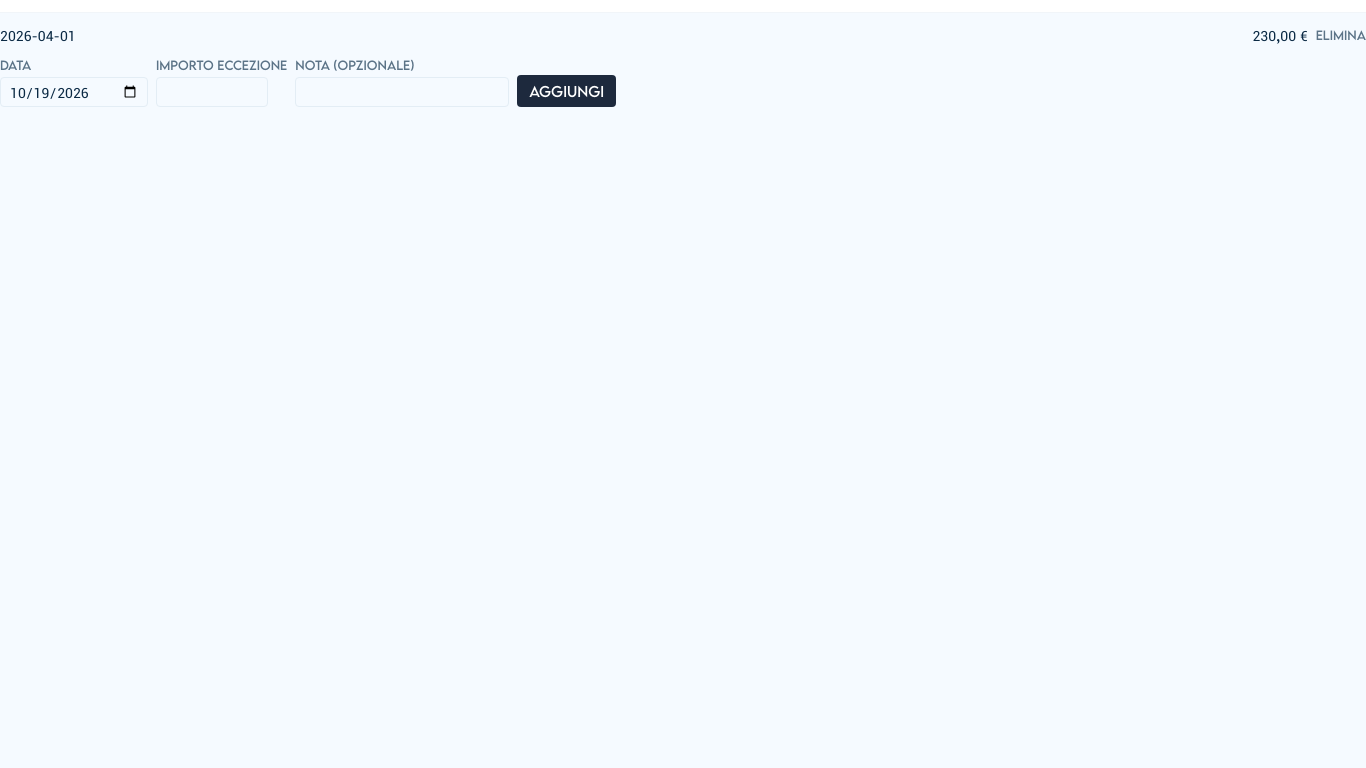
Test case: cancellazione › confermando la elimina e ricarica
Click the button "Elimina": (1341, 35) [1316, 27, 1365, 43]
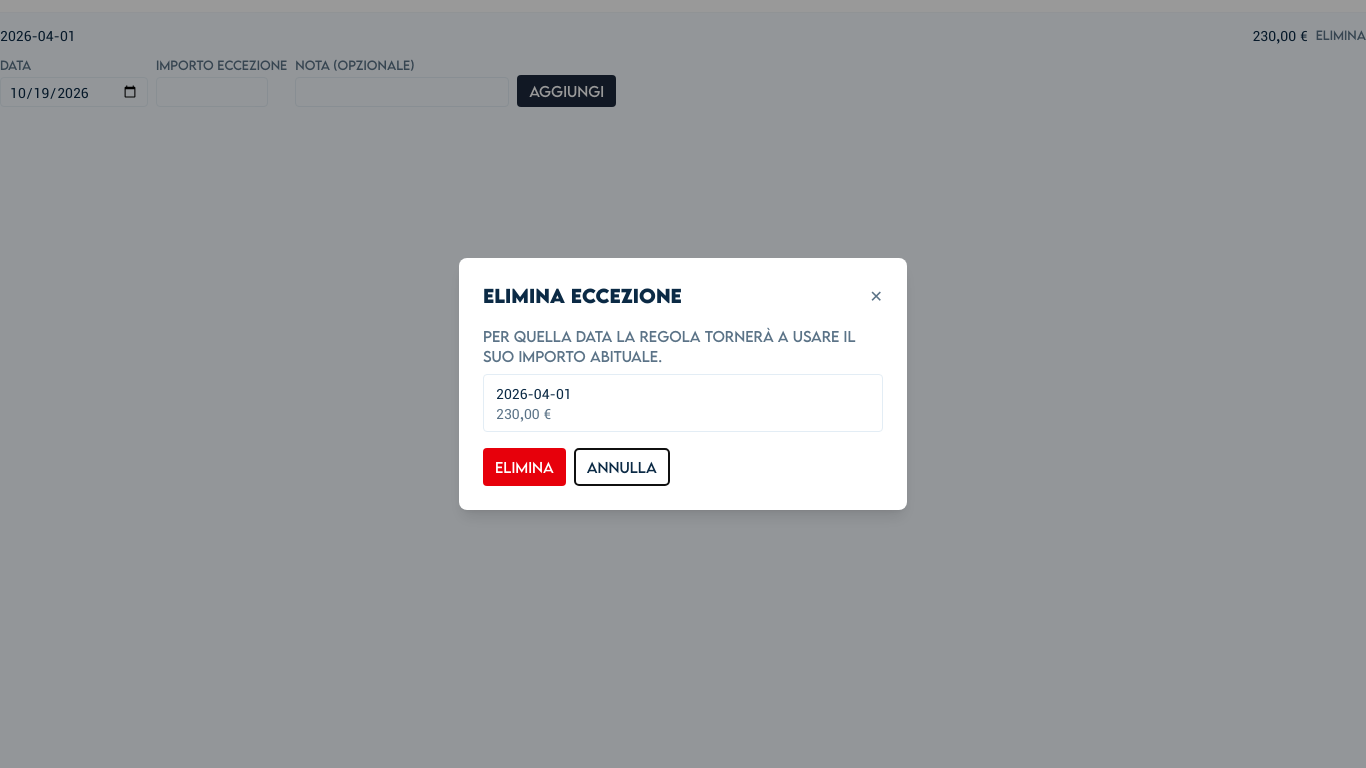
Click the button "Elimina": (524, 467) [483, 448, 566, 486]
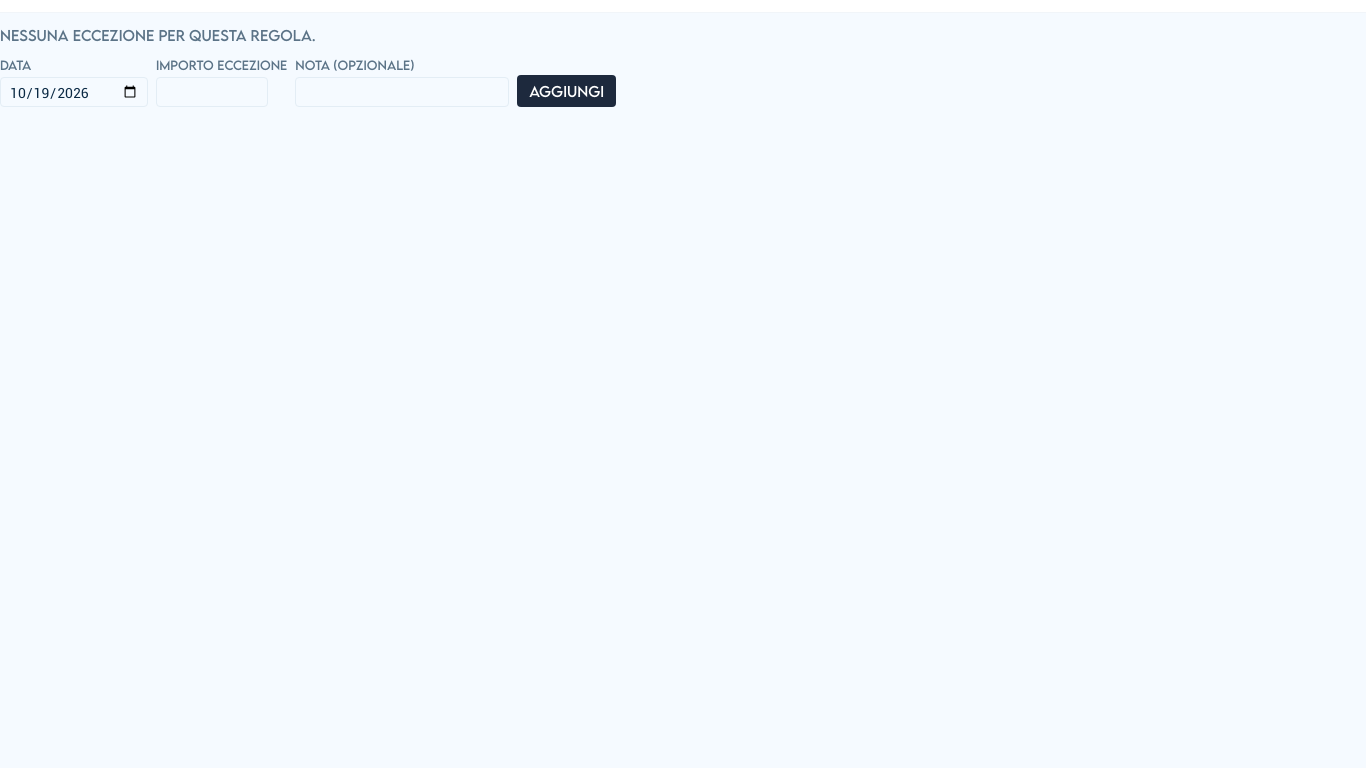
Now the text "Nessuna eccezione per questa regola." is shown, box [0, 26, 316, 44]
